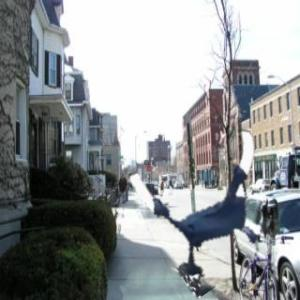drone: (143, 130, 287, 274)
